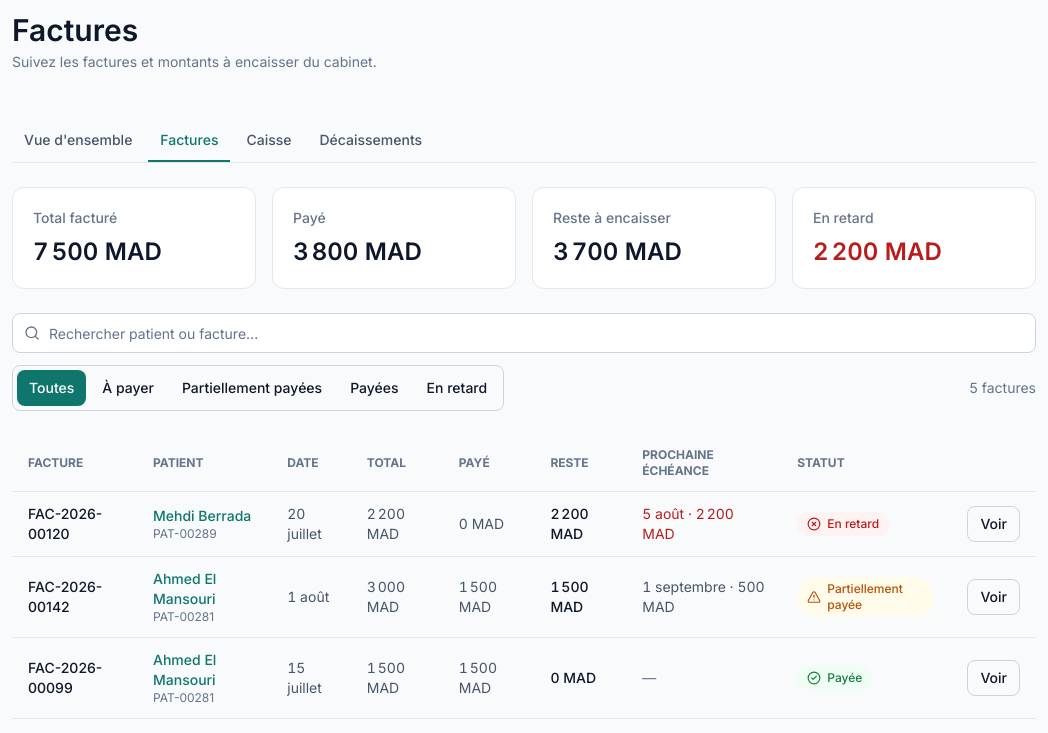
Scenario: GlobalInvoicesPage › 'En retard' filter matches only overdue invoices
The width and height of the screenshot is (1048, 733).
Click the button "En retard" at x=457, y=388, box [415,370,499,406]
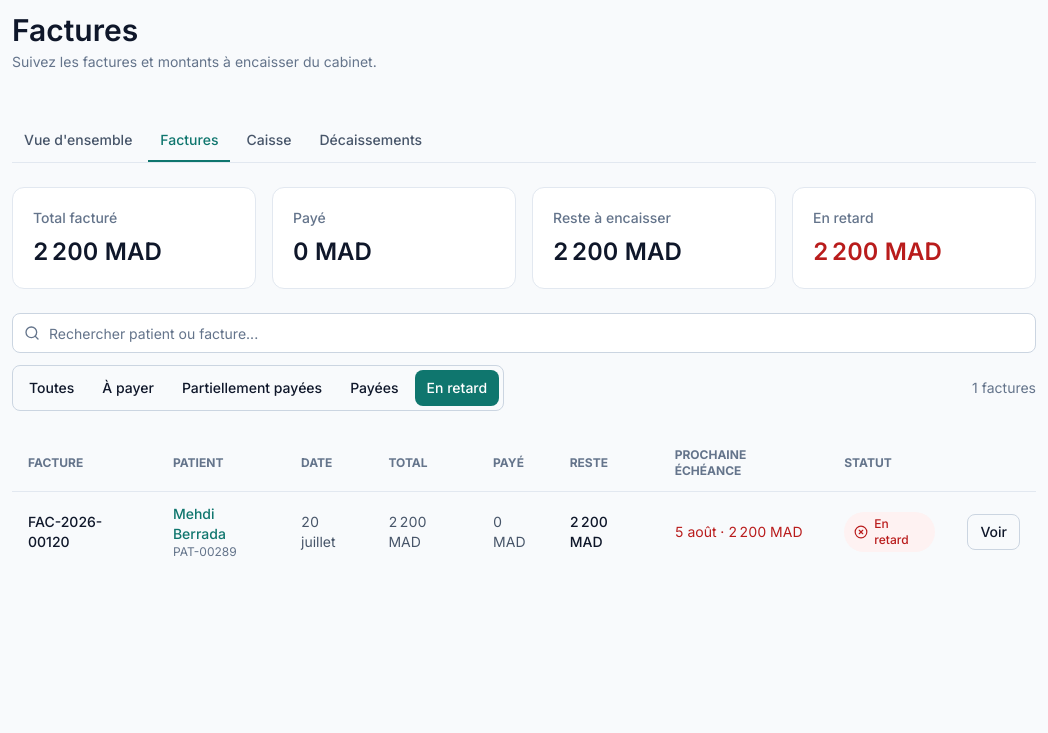
Check: the text "FAC-2026-00120" is shown, box [12,492,157,572]
Check: the text "1 factures" is shown, box [972,378,1036,398]
